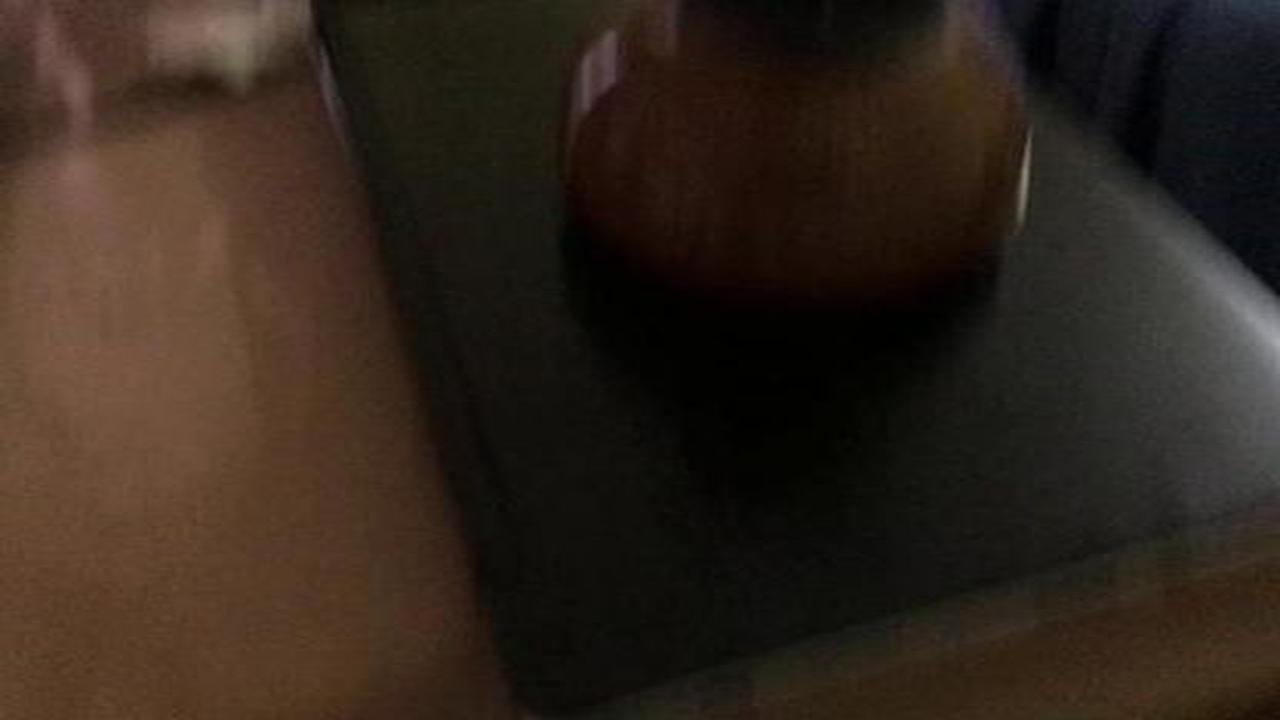insulator_pin: (551, 1, 1050, 314)
